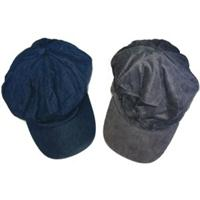hat: (103, 38, 198, 162), (2, 38, 95, 158)
